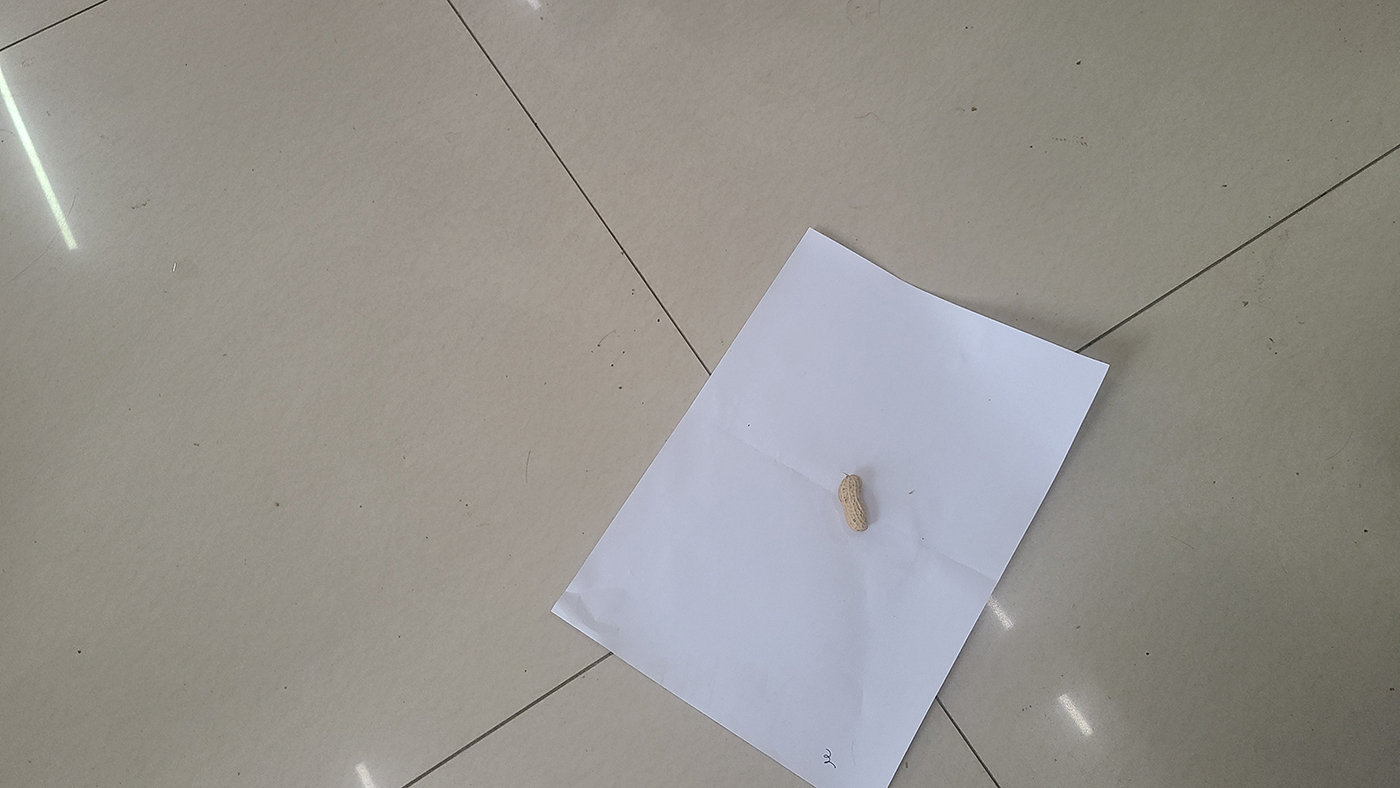h: (838, 473, 869, 533)
